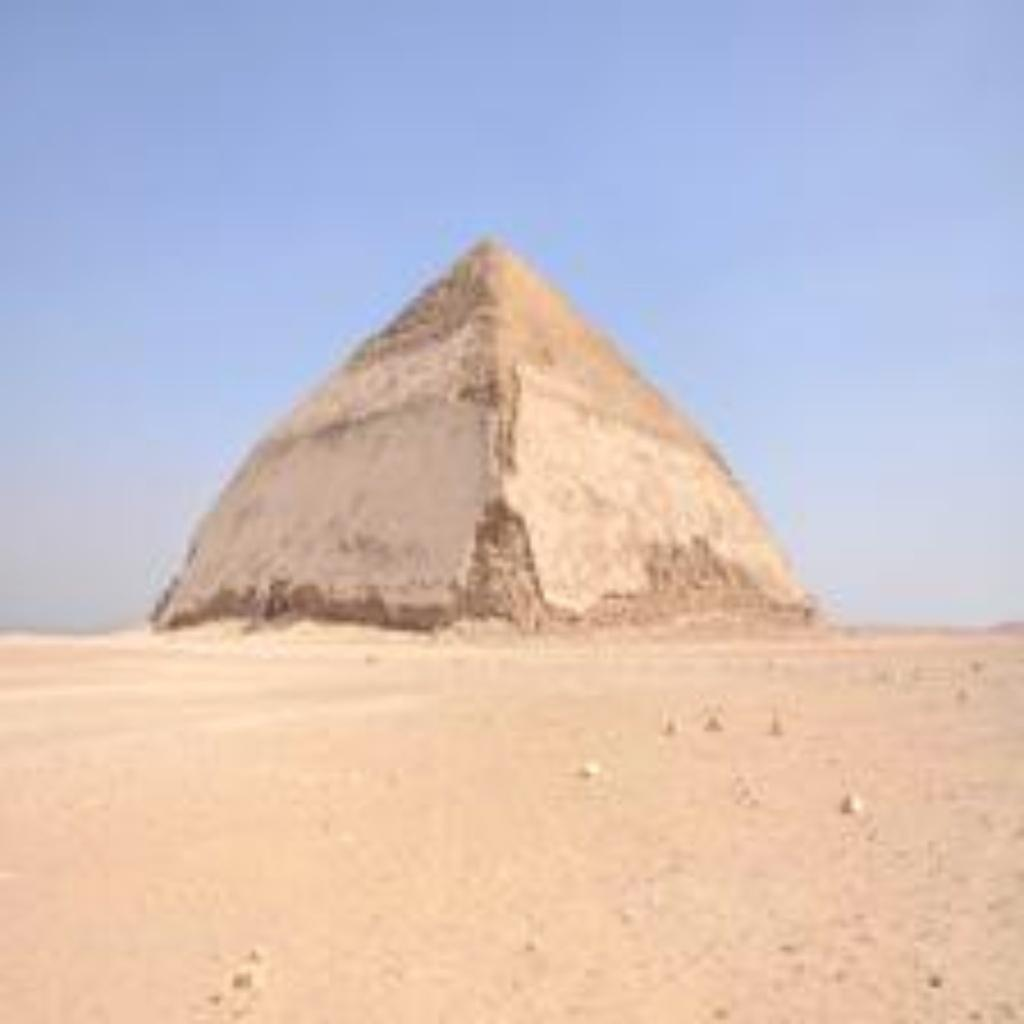Bent Pyramid of King Sneferu: (142, 224, 828, 640)
